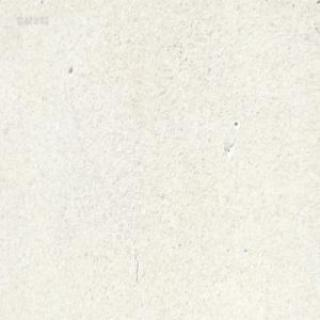Wrenchtrack_idkeyframe: (138, 0, 145, 4)
